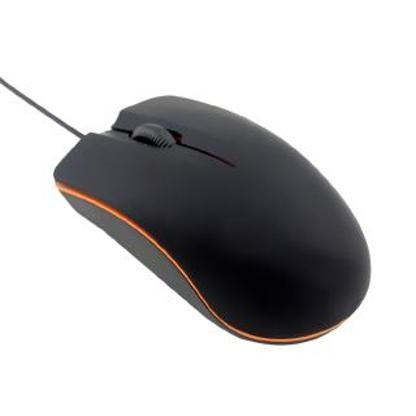not trash: (54, 96, 370, 344)
